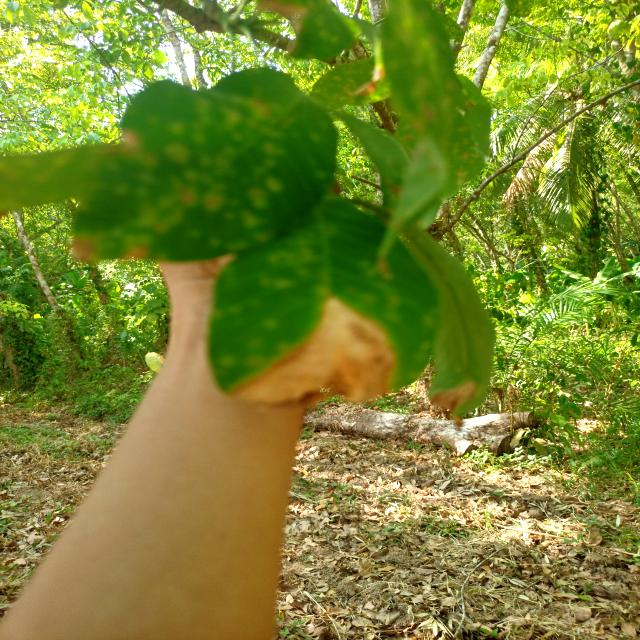Leaf-Blight: (226, 298, 397, 410)
